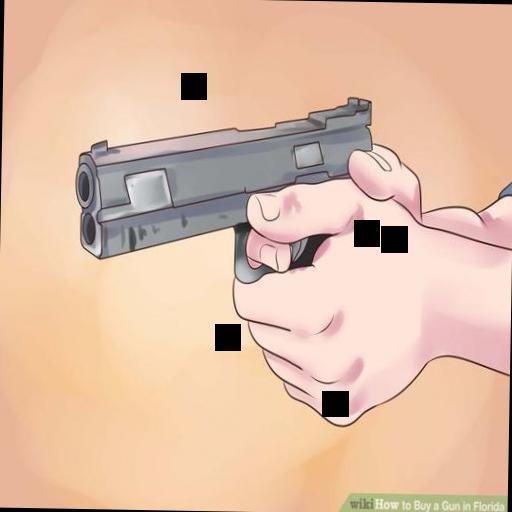Handgun: (72, 90, 372, 286)
